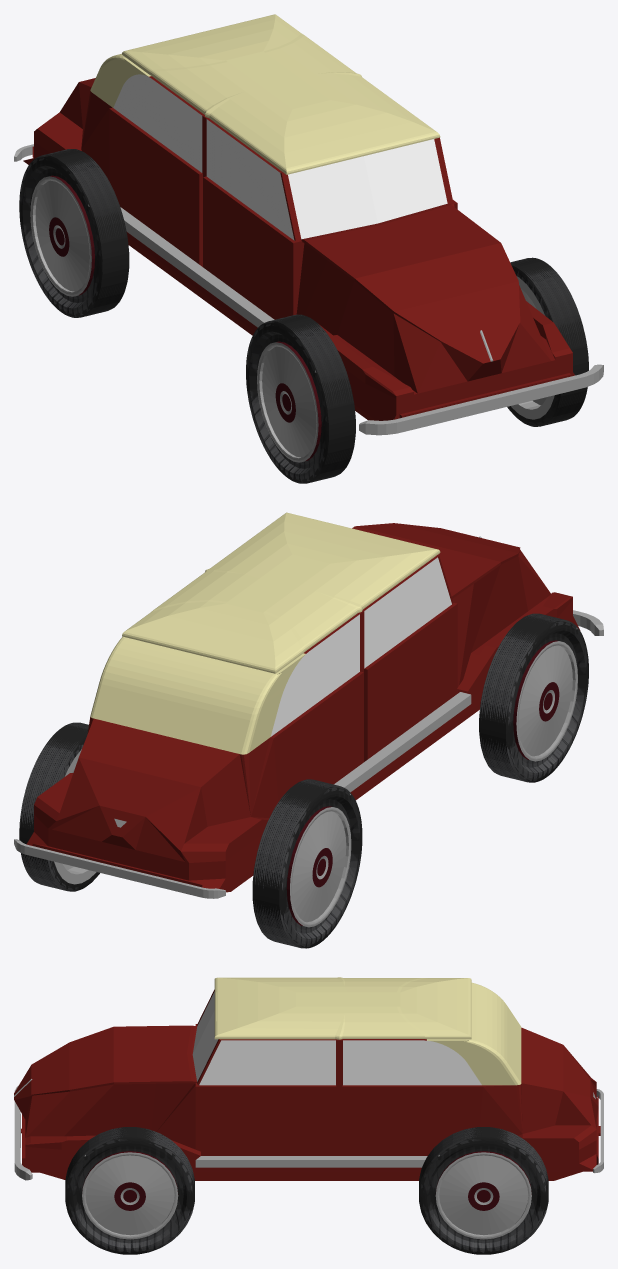
Rendered from beetlecar.glb.
The picture shows the model from 3 angles, top to bottom: view 1: azimuth 30°, elevation 25°; view 2: azimuth 150°, elevation 25°; view 3: azimuth 270°, elevation 25°; orthographic projection. The views are drawn at different scales.
Parts seen in each view (by area): view 1: chassis, rear_right_wheel, front_right_wheel, front_left_wheel; view 2: chassis, rear_right_wheel, front_right_wheel, rear_left_wheel; view 3: chassis, rear_left_wheel, front_left_wheel.
Part boxes in pixels (x1,y1,x2,y2): chassis: (14,14,603,435); rear_right_wheel: (19,149,129,317); front_right_wheel: (246,314,355,483); front_left_wheel: (507,257,588,426); chassis: (14,512,603,898); rear_right_wheel: (252,779,362,948); front_right_wheel: (479,613,588,782); rear_left_wheel: (19,722,99,891); chassis: (14,977,603,1180); rear_left_wheel: (419,1127,548,1254); front_left_wheel: (65,1127,194,1254).
Size of the model in its own units: 1.36 by 1.3 by 3.38.
Materials: 7 (2 with a texture image).
